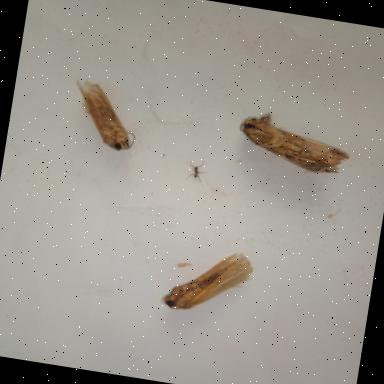abw: (217, 105, 355, 177), (156, 239, 262, 326), (68, 80, 148, 162)
